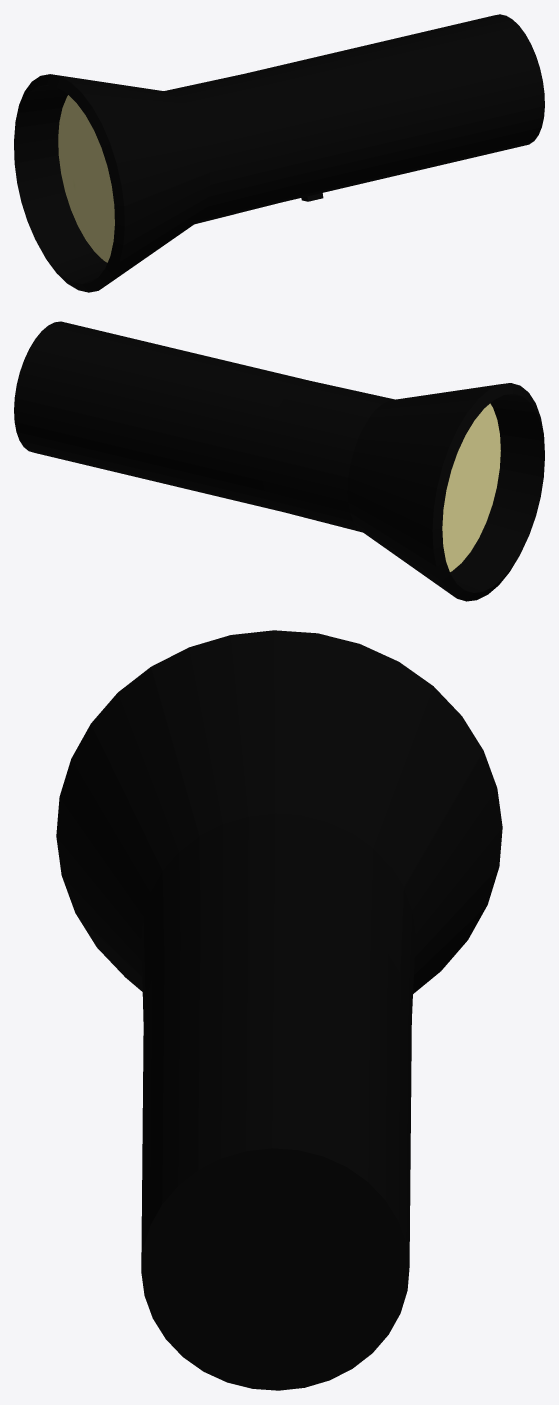
The model's file is Flashlight.fbx.
3 views of the same model, one above another, from view 1: azimuth 30°, elevation 25°; view 2: azimuth 150°, elevation 25°; view 3: azimuth 270°, elevation 25° (orthographic). The views are drawn at different scales.
Parts seen in each view (by area): view 1: FlashLight; view 2: FlashLight; view 3: FlashLight.
Part boxes in pixels (x1,y1,x2,y2): FlashLight: (14, 14, 544, 292); FlashLight: (14, 321, 544, 601); FlashLight: (56, 630, 502, 1390).
Bounding box in the file's own units: 71.92 × 31.07 × 31.07.
